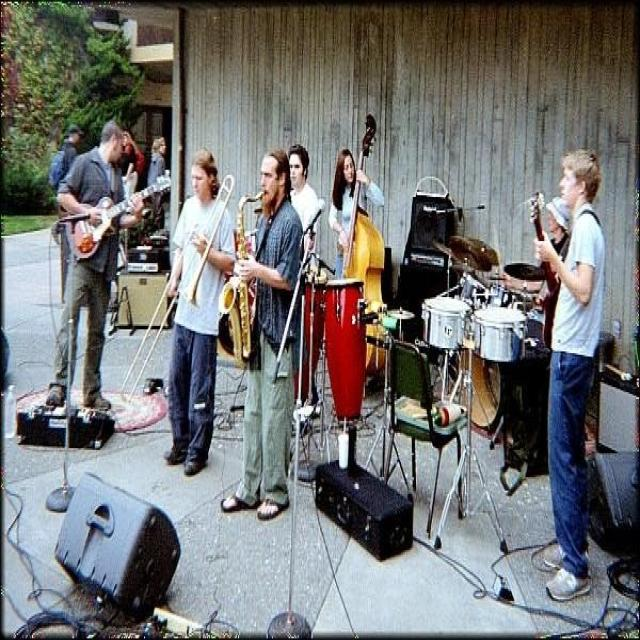drums: (428, 222, 554, 444)
guitar: (62, 171, 177, 261), (527, 190, 567, 356)
saxophone: (216, 188, 272, 368)
